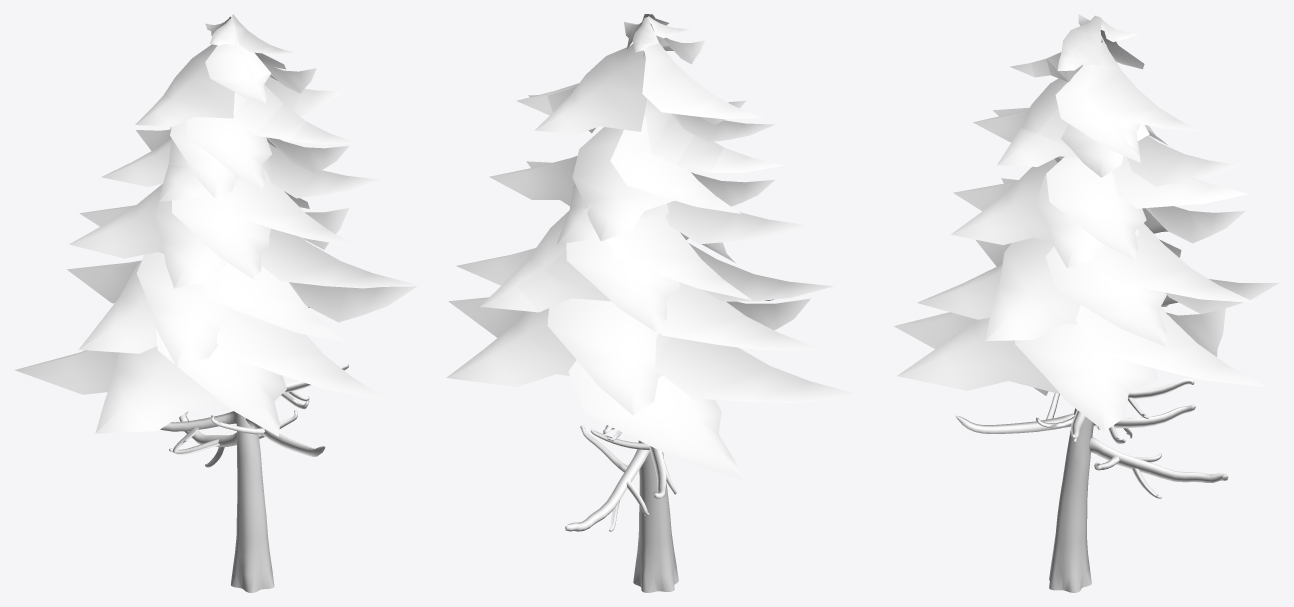
File: sapin_no_col_1.glb
3 views of the same model, side by side, from view 1: azimuth 30°, elevation 25°; view 2: azimuth 150°, elevation 25°; view 3: azimuth 270°, elevation 25° (orthographic). The views are drawn at different scales.
Parts seen in each view (by area): view 1: Pine_1; view 2: Pine_1; view 3: Pine_1.
Part boxes in pixels (x1=…): Pine_1: x1=14, y1=14, x2=417, y2=592; Pine_1: x1=446, y1=14, x2=863, y2=592; Pine_1: x1=894, y1=14, x2=1278, y2=592.
Bounding box in the file's own units: 4.94 × 7.32 × 4.54.
2 materials, 1 textured.
